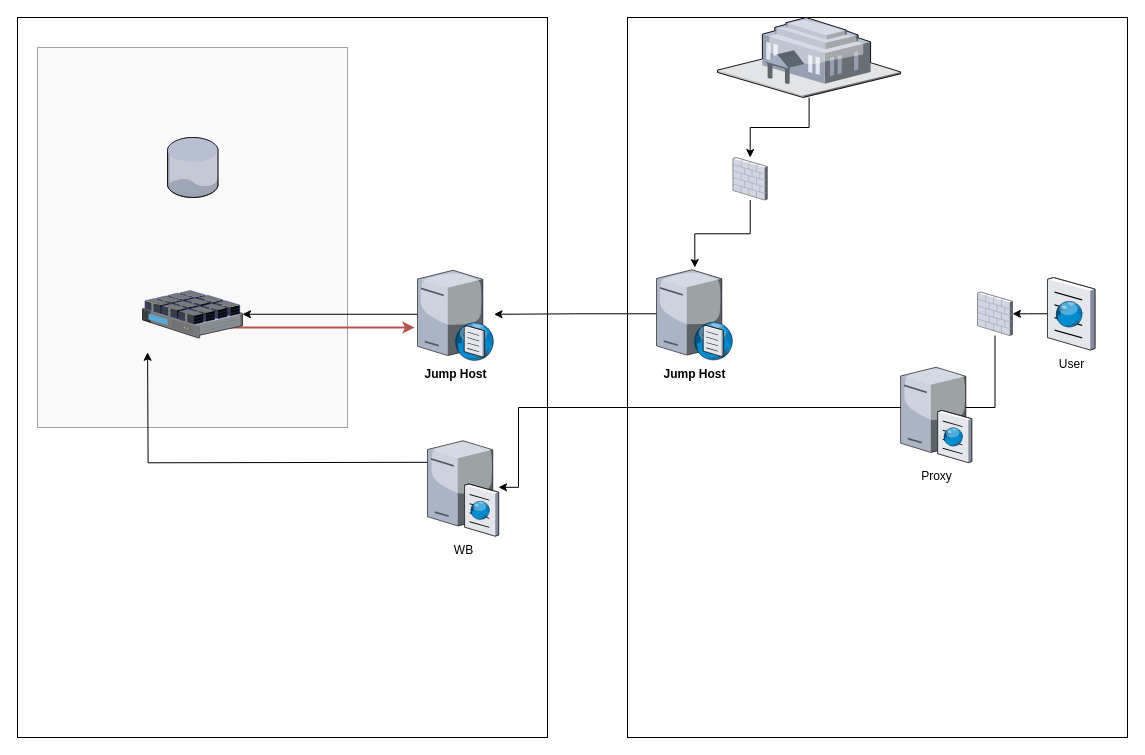
Image size: 1145x755. Some labels were removed from this diagram. Here are the shapes that lost their labels. From the top down, the box of each, then its label:
(717, 17, 900, 97): Bank
(167, 137, 218, 197): DB
(142, 290, 242, 338): K8S
